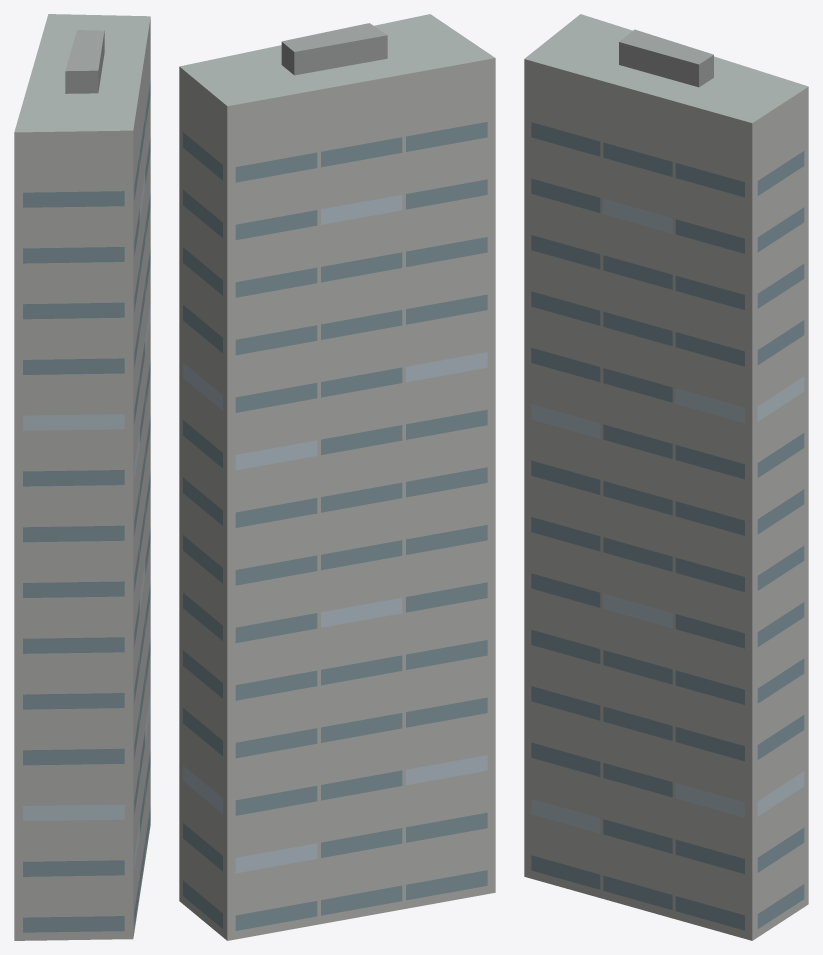
File: fallback-jamsil-ricenz-214.glb
The picture shows the model from 3 angles, left to right: view 1: azimuth 30°, elevation 25°; view 2: azimuth 150°, elevation 25°; view 3: azimuth 270°, elevation 25°; orthographic projection. The views are drawn at different scales.
Parts seen in each view (by area): view 1: fallback-jamsil-ricenz-214; view 2: fallback-jamsil-ricenz-214; view 3: fallback-jamsil-ricenz-214.
Part boxes in pixels (bbox=[...]): fallback-jamsil-ricenz-214: bbox=[14, 14, 150, 940]; fallback-jamsil-ricenz-214: bbox=[179, 14, 495, 940]; fallback-jamsil-ricenz-214: bbox=[524, 14, 808, 940].
Size of the model in its own units: 24.53 by 88 by 27.01.
